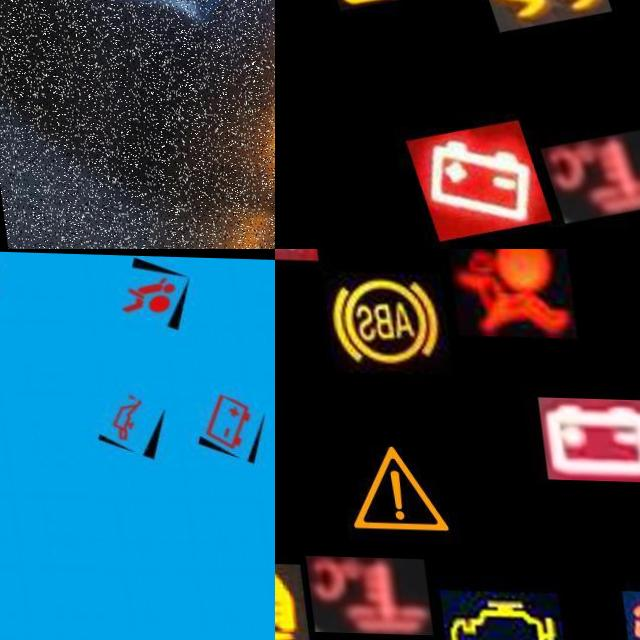Central Warning lamp: (321, 426, 450, 547)
Engine cooling system: (531, 120, 640, 222), (293, 555, 419, 634)
